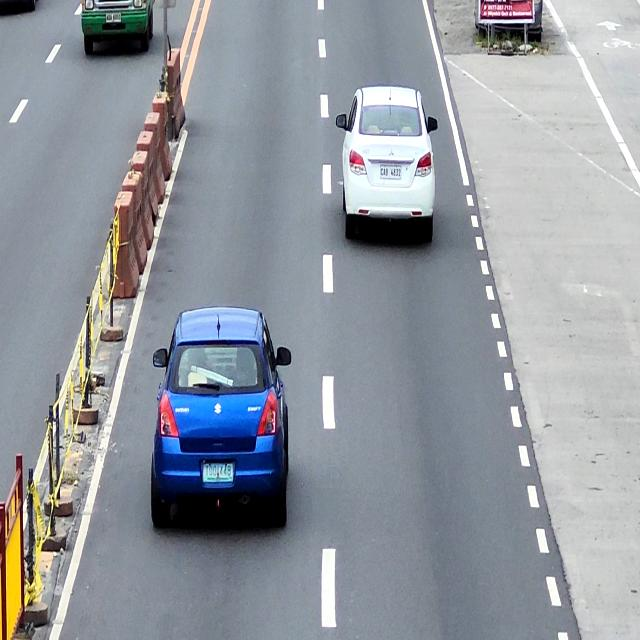Car: (152, 306, 293, 534), (336, 86, 438, 243)
License-Plate: (203, 463, 233, 481), (379, 166, 402, 180)
